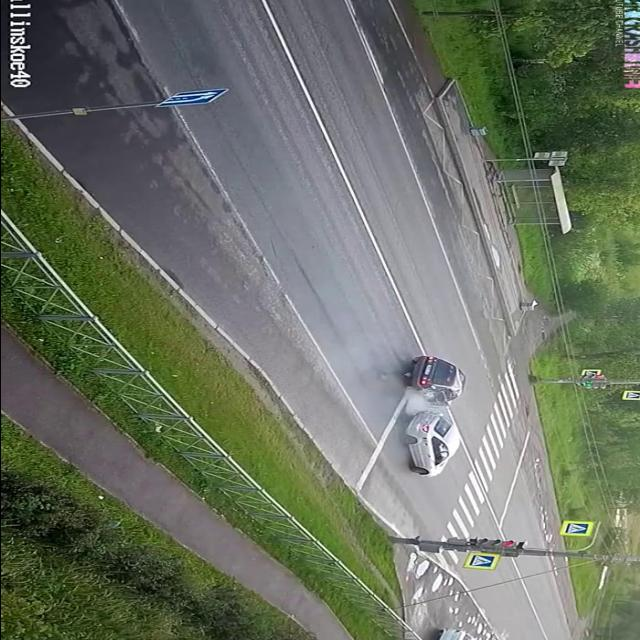accident: (383, 349, 477, 486)
